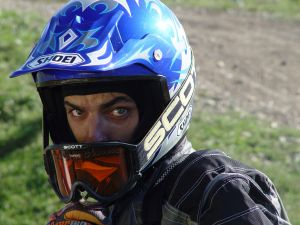helmet: (27, 1, 202, 178)
